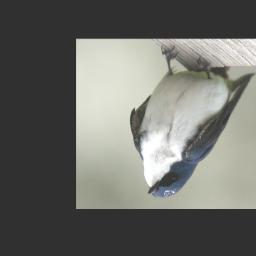Swallow: (128, 44, 256, 199)
